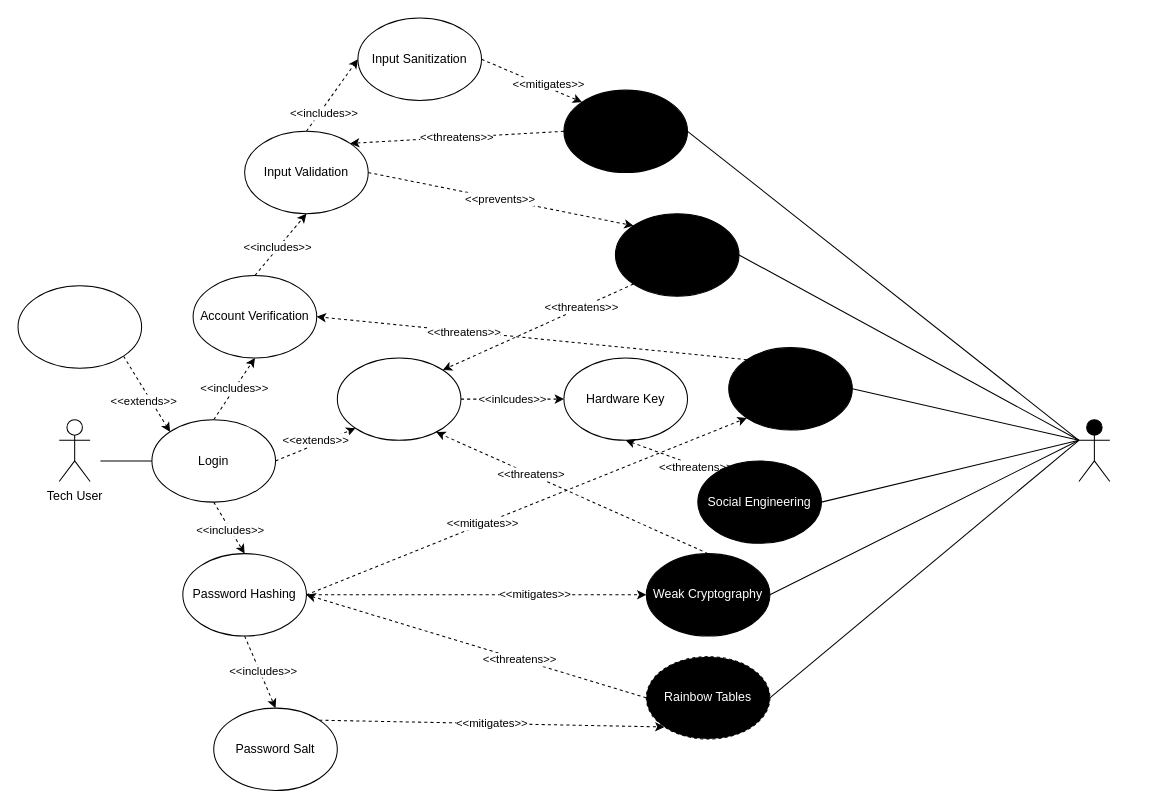
This 1154x809 diagram has some shape labels left out. The centre of each missing label's shape, as x and y in pixels:
Database Theft: point 790,388
Escape Character Validation: point 625,131
Logout: point 79,326
Malicious Input: point 676,254
Rival Company: point 1094,450
Unlock Database: point 398,398
